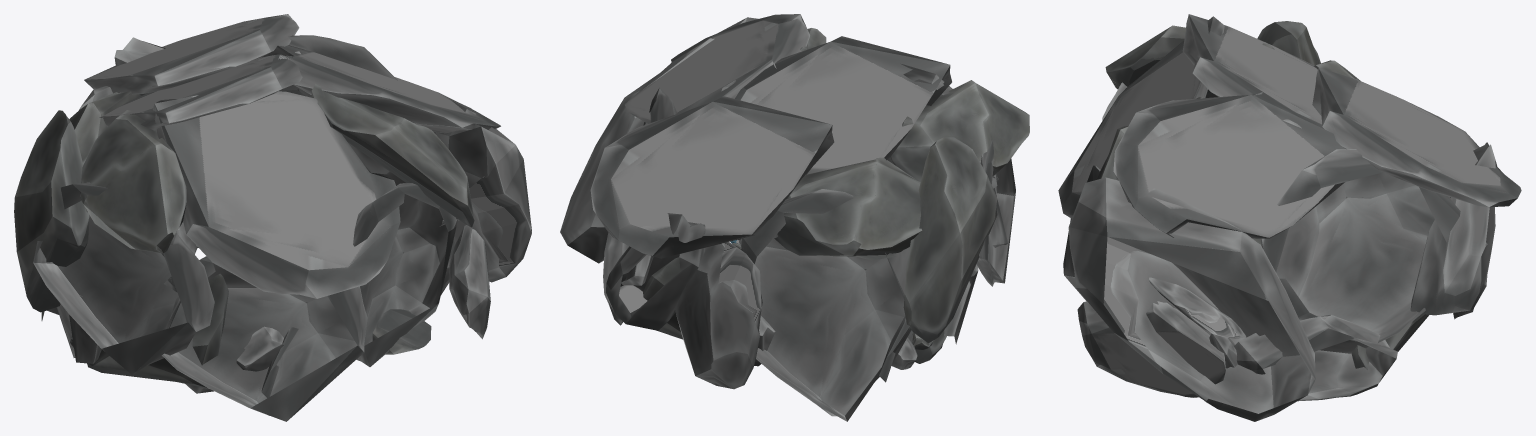
Rendered from stoneCaveReworked.fbx.
The picture shows the model from 3 angles, left to right: view 1: azimuth 30°, elevation 25°; view 2: azimuth 150°, elevation 25°; view 3: azimuth 270°, elevation 25°; orthographic projection. The views are drawn at different scales.
Visible parts, largest first — view 1: Roof, CaveBase.001; view 2: Roof, CaveBase.001; view 3: CaveBase.001, Roof.
Part boxes in pixels (x1,y1,x2,y2): Roof: (14,14,500,312); CaveBase.001: (33,35,531,421); Roof: (590,14,1029,342); CaveBase.001: (560,17,1015,421); CaveBase.001: (1063,82,1497,421); Roof: (1058,14,1521,238).
Bounding box in the file's own units: 42037 × 29585 × 40856.
